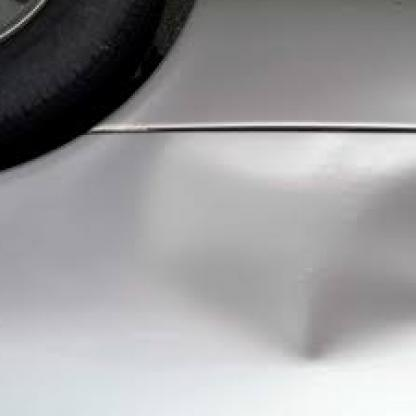dent: (213, 248, 412, 374)
